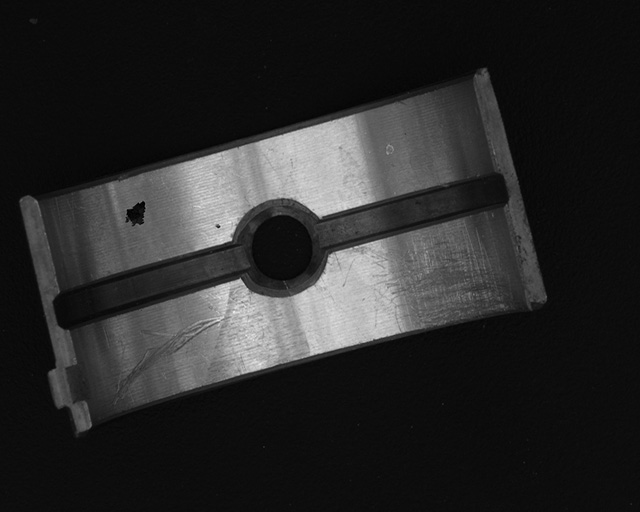blot: (124, 200, 146, 227)
bruise: (384, 143, 395, 158), (215, 223, 220, 229)
gap: (53, 242, 252, 327), (316, 173, 511, 250)
hole: (238, 202, 324, 296)
nick: (108, 312, 230, 408)
scratch: (344, 234, 520, 330)
